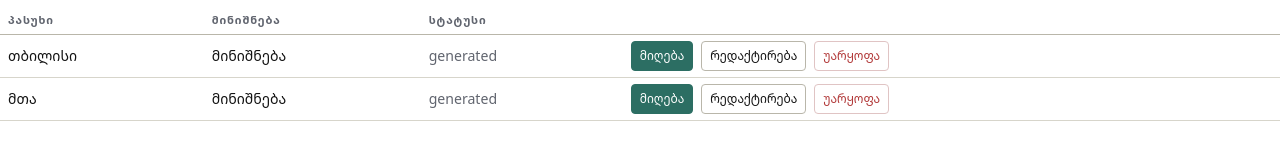
Test: ClueReview › accepts a clue and updates the row status
Click the button "მიღება" in the row of "თბილისი".
click(662, 56)  # box [631,41,693,71]
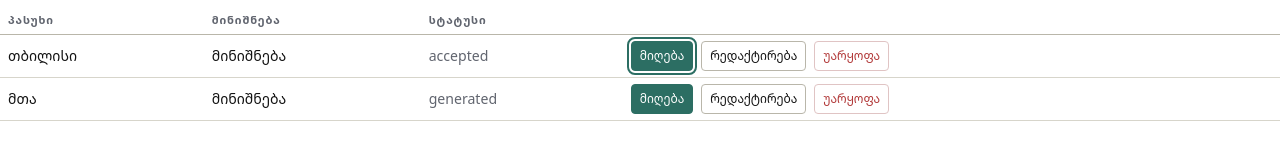
Now the text "accepted" is shown, box [421,35,623,78]
